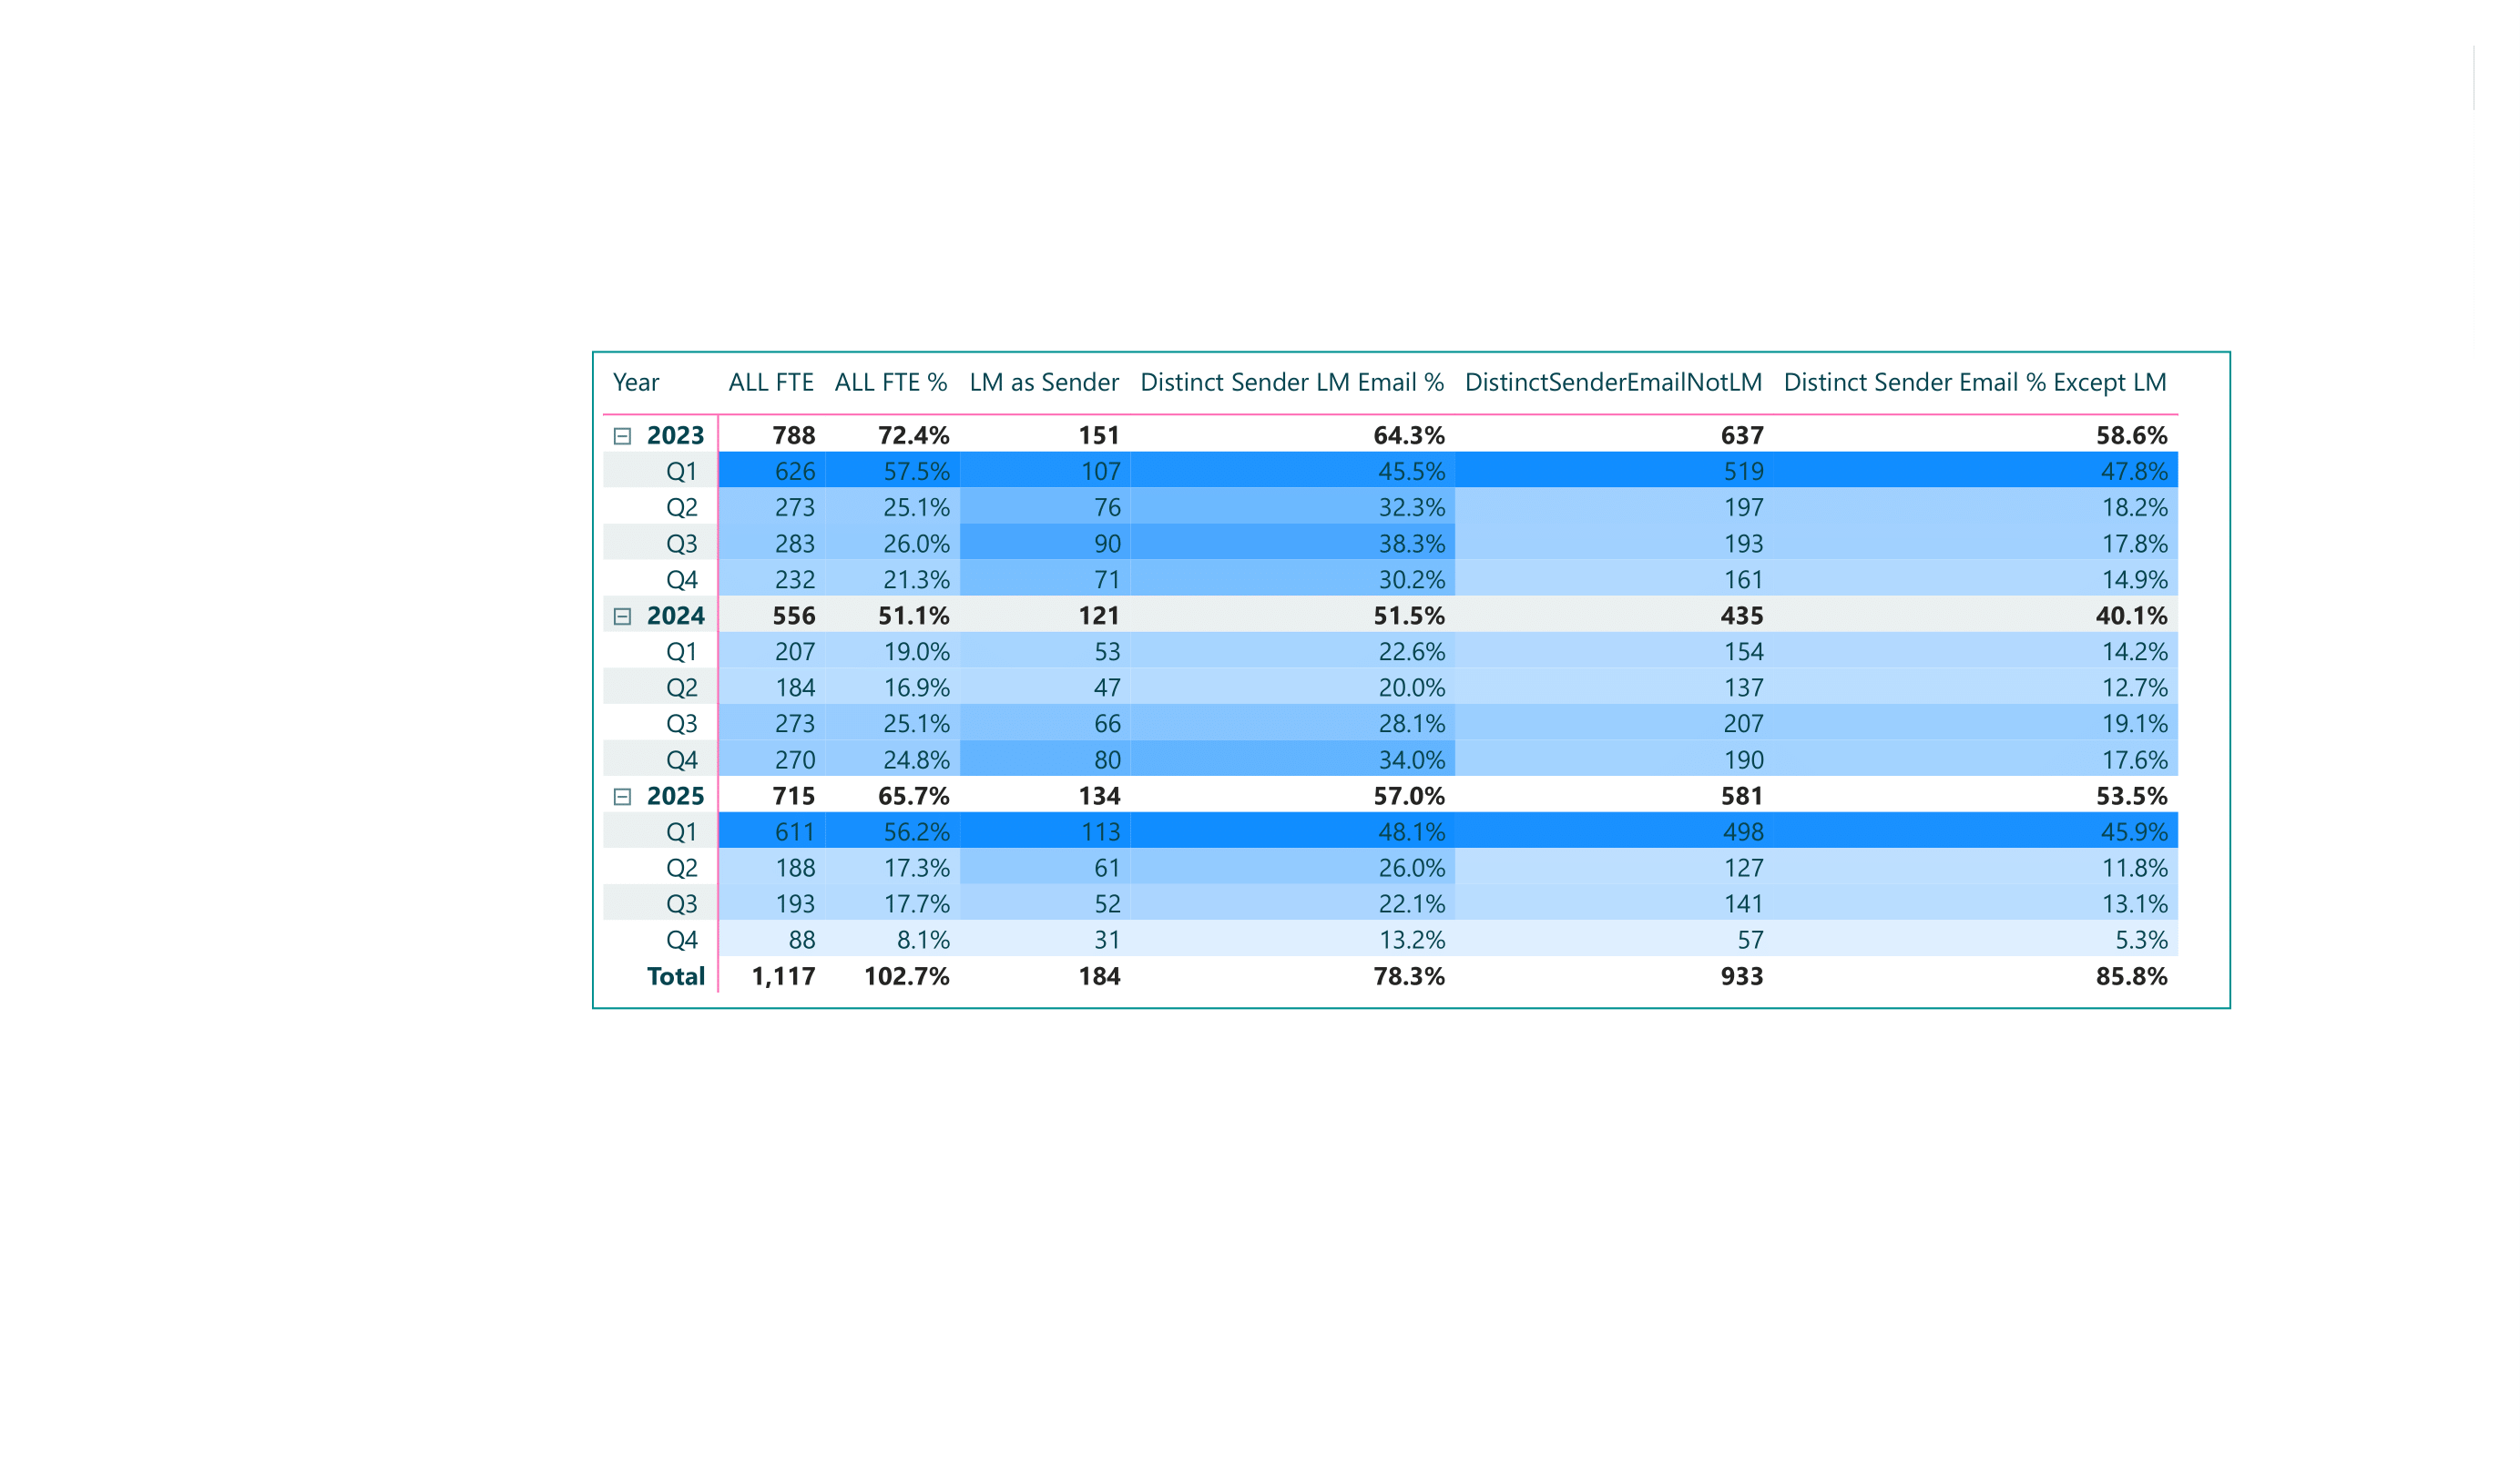

This screenshot's page, from the dashboard's own definition file:
{"tool":"powerbi","page":{"name":"Summery.1","canvas":[1280,720],"ordinal":9},"visuals":[{"type":"pivotTable","fields":{"Rows":["DimDate.Year","DimDate.Quarter"],"Values":["Recognition Data.PeerToPeerCount","Recognition Data.Company Recognition","Comment.#of Comment","Activities.Received Like","Activities.Liked recognition"]},"box":[272.2,148.3,635,352.8],"z":0}]}

Visuals, with their boxes on the page's 1280x720 design canvas (x1, y1, x2, y2). These are canvas units, not pixel positions in the 2520x1457 screenshot, which may show the page scaled, cropped or inside an application window:
pivotTable - DimDate.Year x DimDate.Quarter: <region>272, 148, 907, 501</region>
